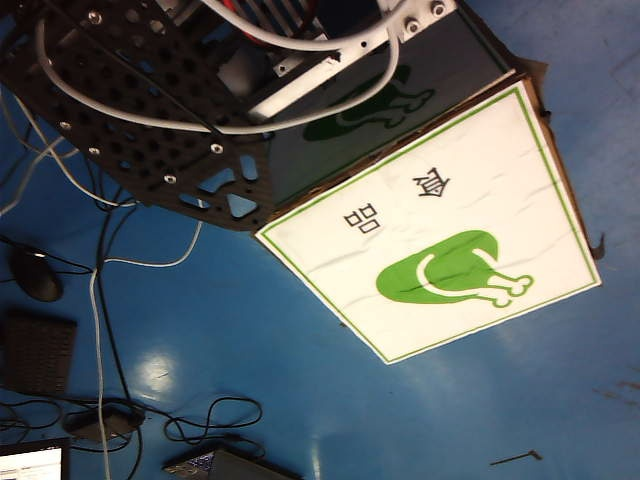Cube_food: (335, 159, 535, 318)
